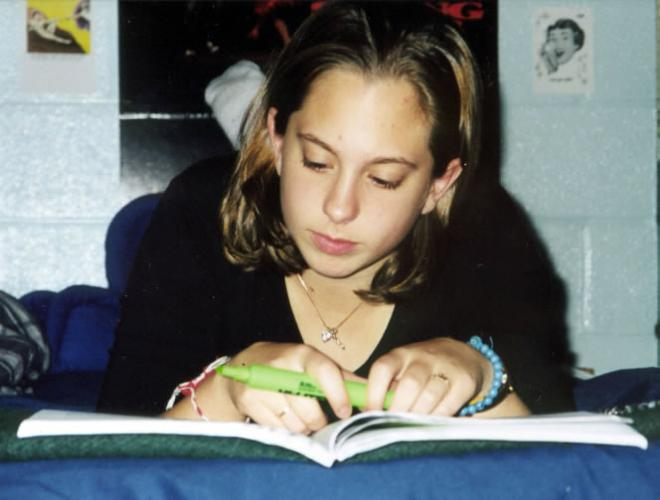person: (100, 3, 582, 441)
